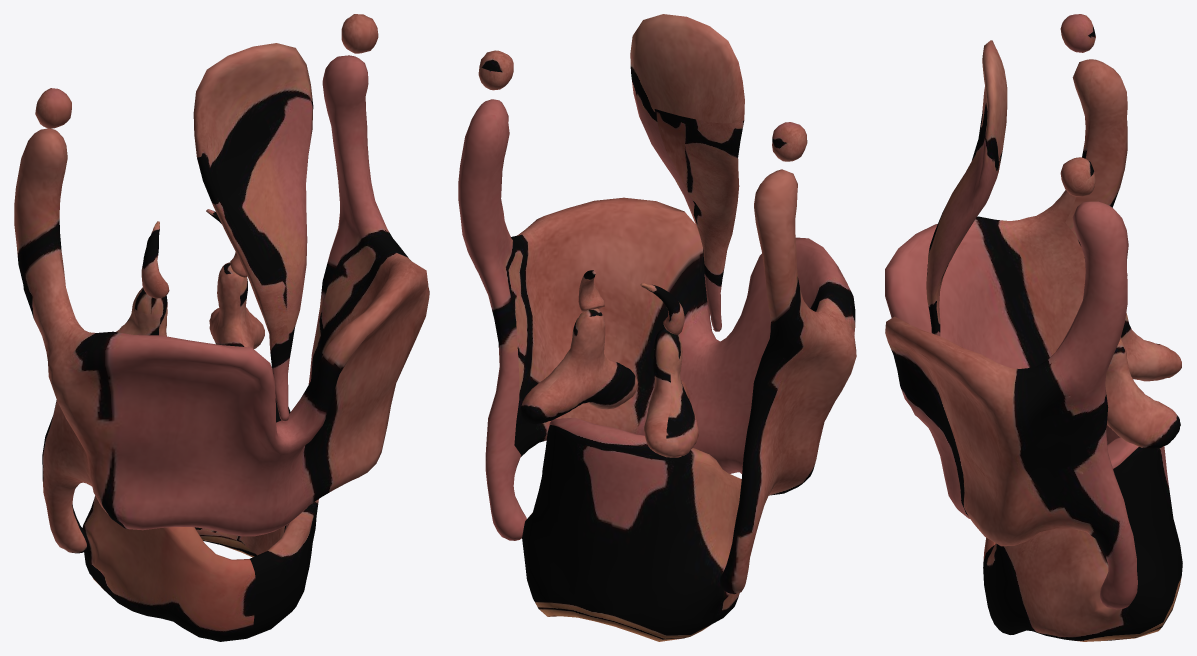
The model's file is Respiratory.Larynx.Thyroid.obj.
3 views of the same model, side by side, from view 1: azimuth 30°, elevation 25°; view 2: azimuth 150°, elevation 25°; view 3: azimuth 270°, elevation 25° (orthographic). The views are drawn at different scales.
Visible parts, largest first — view 1: Respiratory:Larynx:Thyroid_Larynx.011; view 2: Respiratory:Larynx:Thyroid_Larynx.011; view 3: Respiratory:Larynx:Thyroid_Larynx.011.
Part boxes in pixels (x1,y1,x2,y2): Respiratory:Larynx:Thyroid_Larynx.011: [14, 14, 429, 641]; Respiratory:Larynx:Thyroid_Larynx.011: [458, 14, 856, 641]; Respiratory:Larynx:Thyroid_Larynx.011: [885, 14, 1182, 641].
Bounding box in the file's own units: 0.2266 × 0.3435 × 0.1606.
